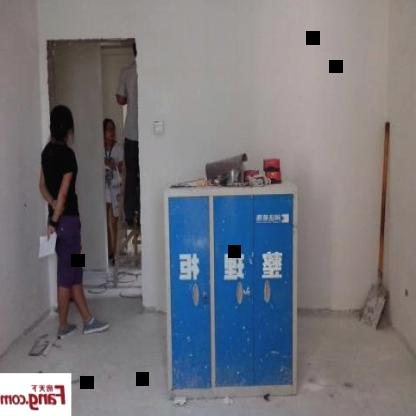head: (44, 101, 74, 150), (103, 114, 117, 148)
